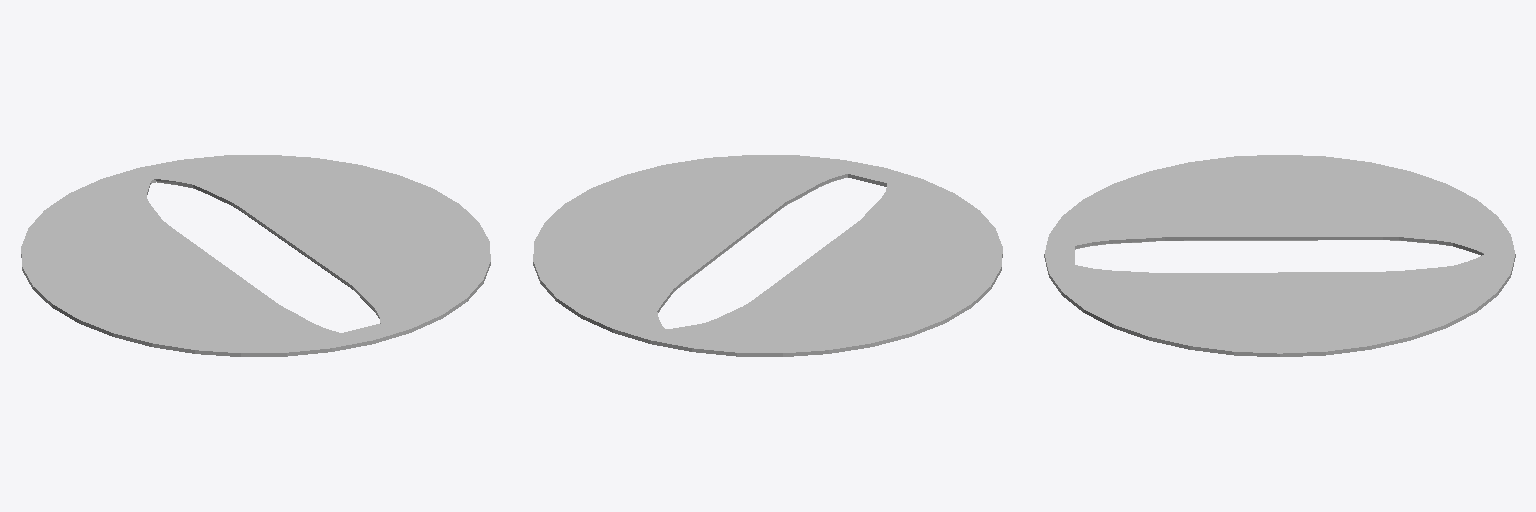
File: molde.obj
3 renders of one model, left to right at view 1: azimuth 30°, elevation 25°; view 2: azimuth 150°, elevation 25°; view 3: azimuth 270°, elevation 25°, orthographic.
Visible parts, largest first — view 1: Cylinder.002_Cylinder.001; view 2: Cylinder.002_Cylinder.001; view 3: Cylinder.002_Cylinder.001.
Part boxes in pixels (left/top/right/bottom): Cylinder.002_Cylinder.001: left=21, top=155, right=490, bottom=356; Cylinder.002_Cylinder.001: left=533, top=155, right=1002, bottom=356; Cylinder.002_Cylinder.001: left=1044, top=155, right=1515, bottom=356.
Size of the model in its own units: 5.92 by 0.0532 by 5.92.